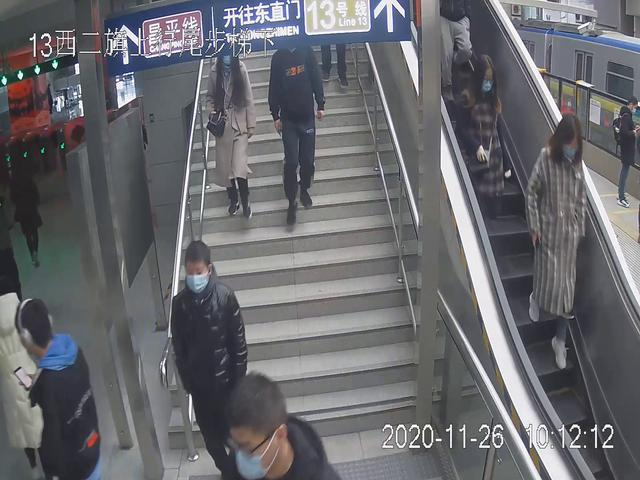person: (168, 239, 250, 480), (521, 108, 592, 375), (264, 45, 328, 235), (452, 51, 512, 247), (203, 50, 260, 224)
